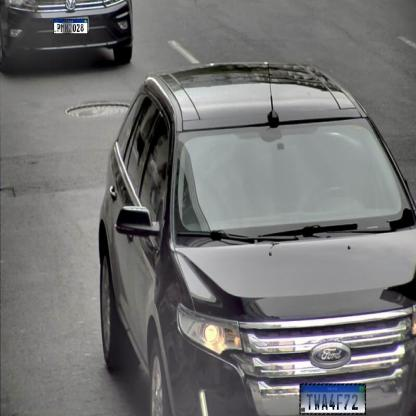PlacaM: (300, 384, 366, 414), (53, 19, 88, 34)
